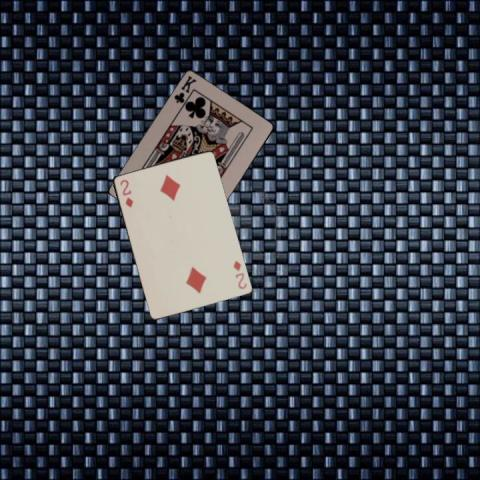2d: (230, 257, 248, 291), (117, 176, 134, 208)
Kc: (171, 73, 198, 104)
